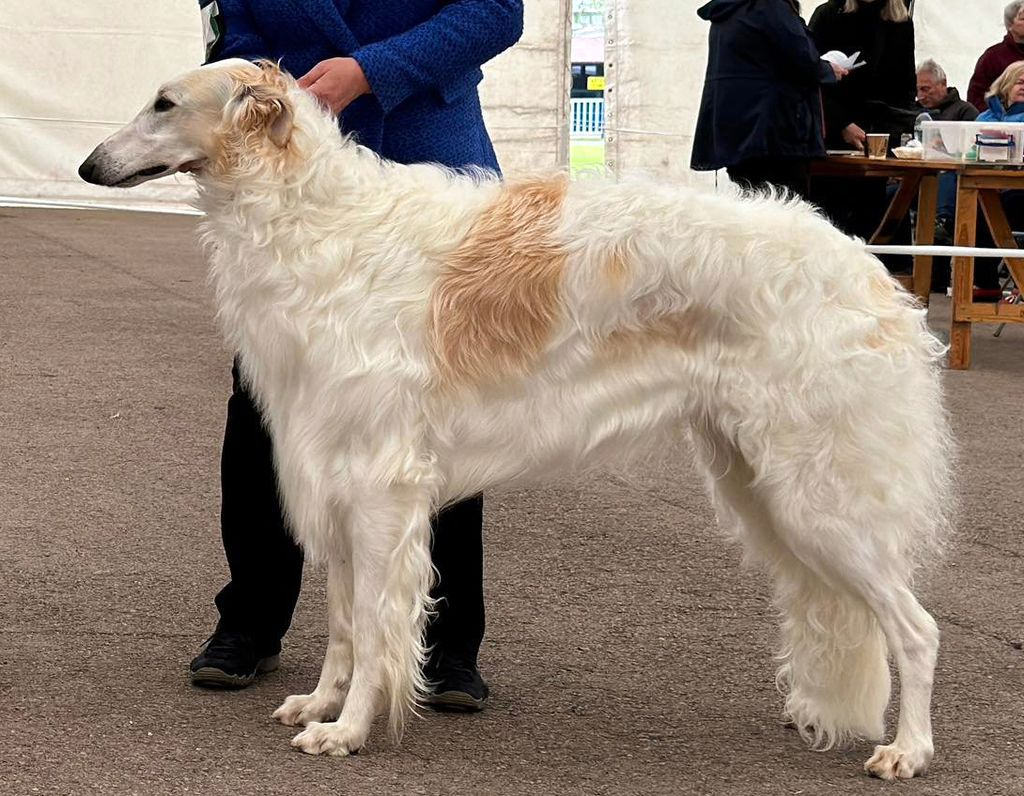borzoi: (60, 56, 961, 775)
